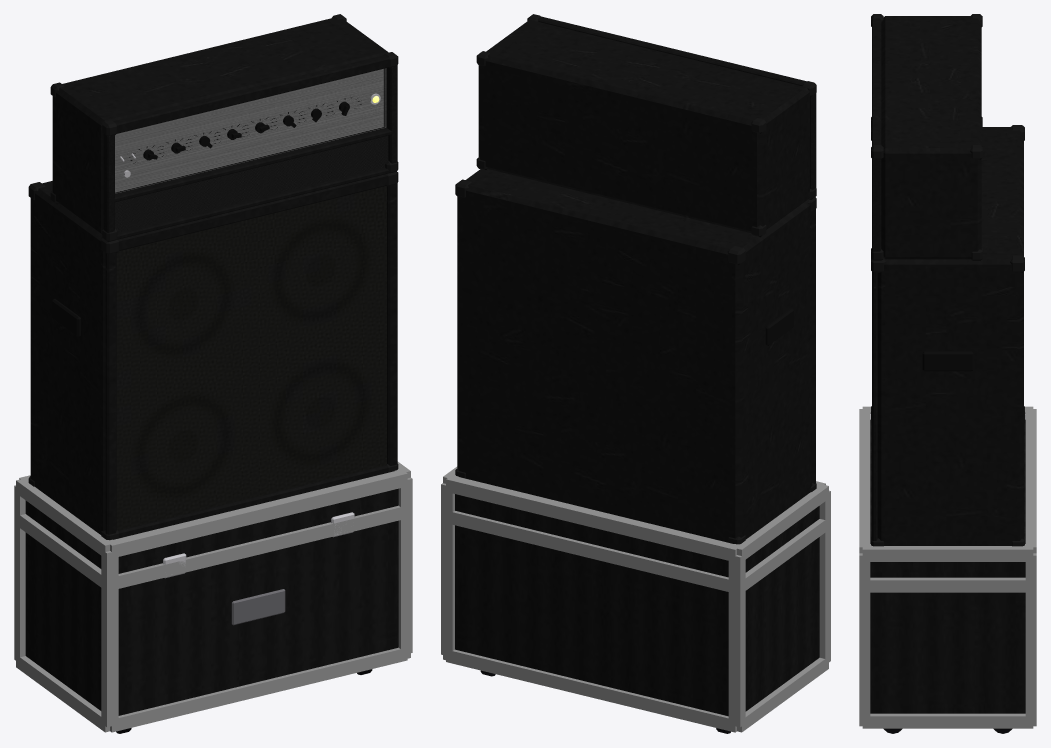
The model's file is amp-stack.glb.
3 renders of one model, left to right at view 1: azimuth 30°, elevation 25°; view 2: azimuth 150°, elevation 25°; view 3: azimuth 270°, elevation 25°, orthographic. The views are drawn at different scales.
Parts seen in each view (by area): view 1: amp_stack; view 2: amp_stack; view 3: amp_stack.
Boxes of the visible parts, x1,y1,x2,y2 form: amp_stack: (14, 14, 412, 733); amp_stack: (441, 14, 830, 733); amp_stack: (859, 14, 1036, 733).
Bounding box in the file's own units: 0.8 × 1.55 × 0.42.
2 materials, 1 textured.
